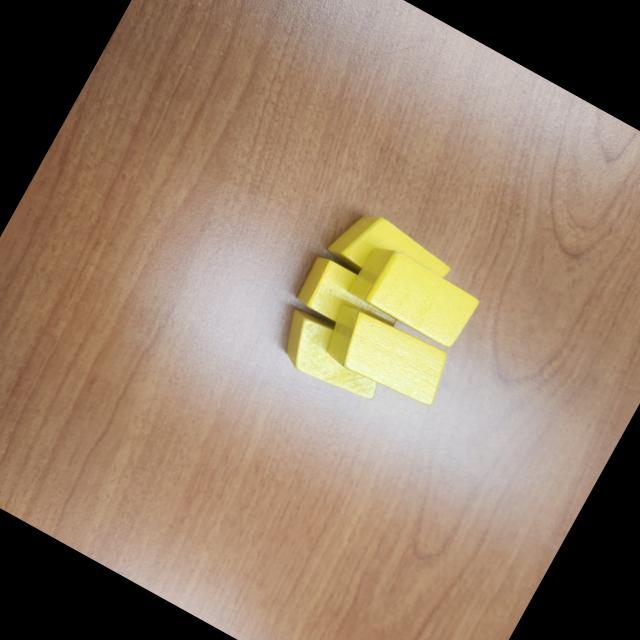yellow: (314, 296, 459, 414), (320, 200, 458, 314), (346, 239, 484, 353), (266, 304, 394, 412), (292, 252, 409, 350)
